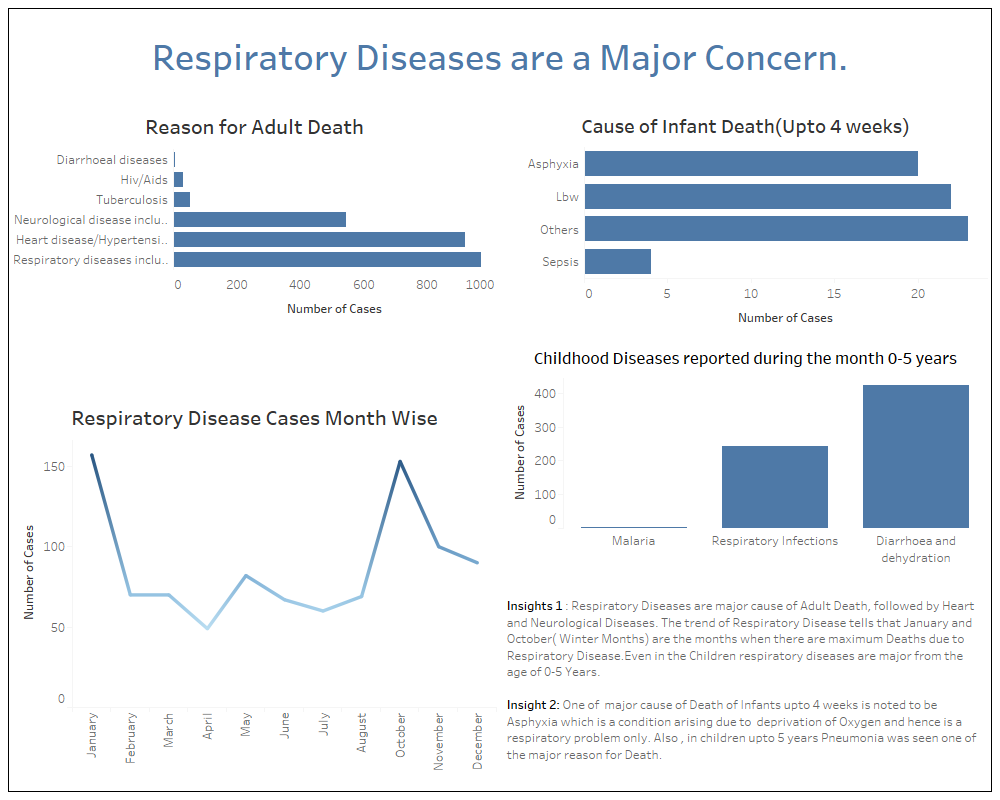

The page's visual inventory and layout, read from the dashboard file:
{"tool":"tableau","page":{"name":"Mortality","canvas":[1000,800],"ordinal":2},"visuals":[{"type":"text","box":[9,9,982,93]},{"type":"worksheet","title":"Adult Death","mark":"Automatic","box":[9,102,491,291]},{"type":"worksheet","title":"Infant Death","mark":"Automatic","box":[500,102,491,235.4]},{"type":"worksheet","title":"Childhood Disease During Month","mark":"Automatic","box":[500,337.4,491,235.4]},{"type":"worksheet","title":"Respiratory Month","mark":"Automatic","rows":["Respiratory diseases including infections (other than TB) 17"],"cols":["Key_ID"],"box":[9,393,491,398]},{"type":"text","box":[500,572.7,491,218.3]}]}

Visuals, with their boxes in screenshot pixels (x1, y1, x2, y2), scaled from the page's 1000x800 canvas onto the 1000x800 screenshot:
text: rect(9, 9, 991, 102)
"Adult Death" worksheet: rect(9, 102, 500, 393)
"Infant Death" worksheet: rect(500, 102, 991, 337)
"Childhood Disease During Month" worksheet: rect(500, 337, 991, 573)
"Respiratory Month" worksheet: rect(9, 393, 500, 791)
text: rect(500, 573, 991, 791)
